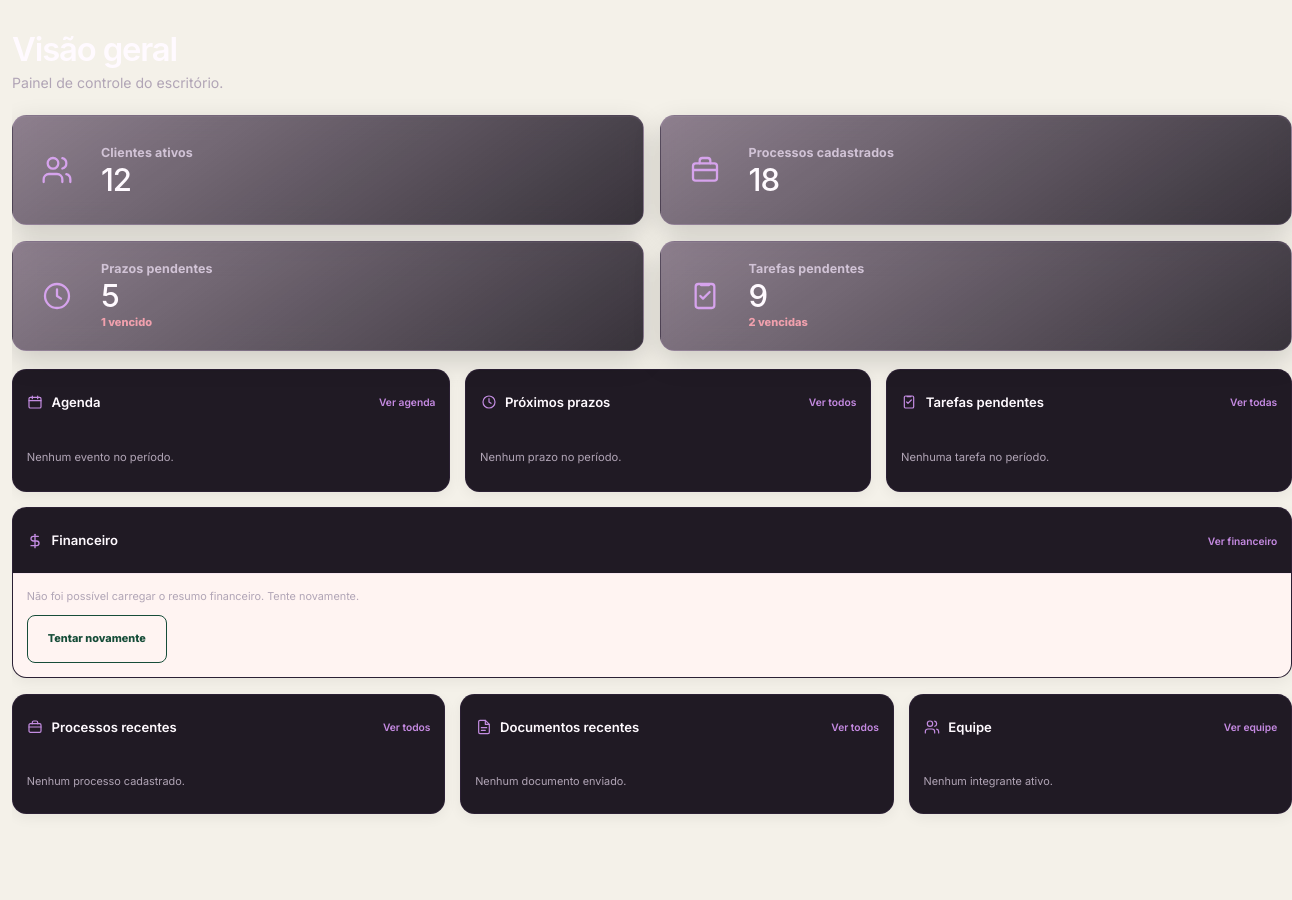
Test: DashboardPage › Finance summary › ErrorAndRetry_StayLocalAndDoNotReloadDashboardModules
The image size is (1292, 900).
Check: the message shows "Não foi possível carregar o resumo financeiro. Tente novamente.", box [27,589,359,603]
Check: the message does not show "private detail", box [13,573,1291,677]
Click the button "Tentar novamente". click: (97,639)
box: [27,615,167,663]
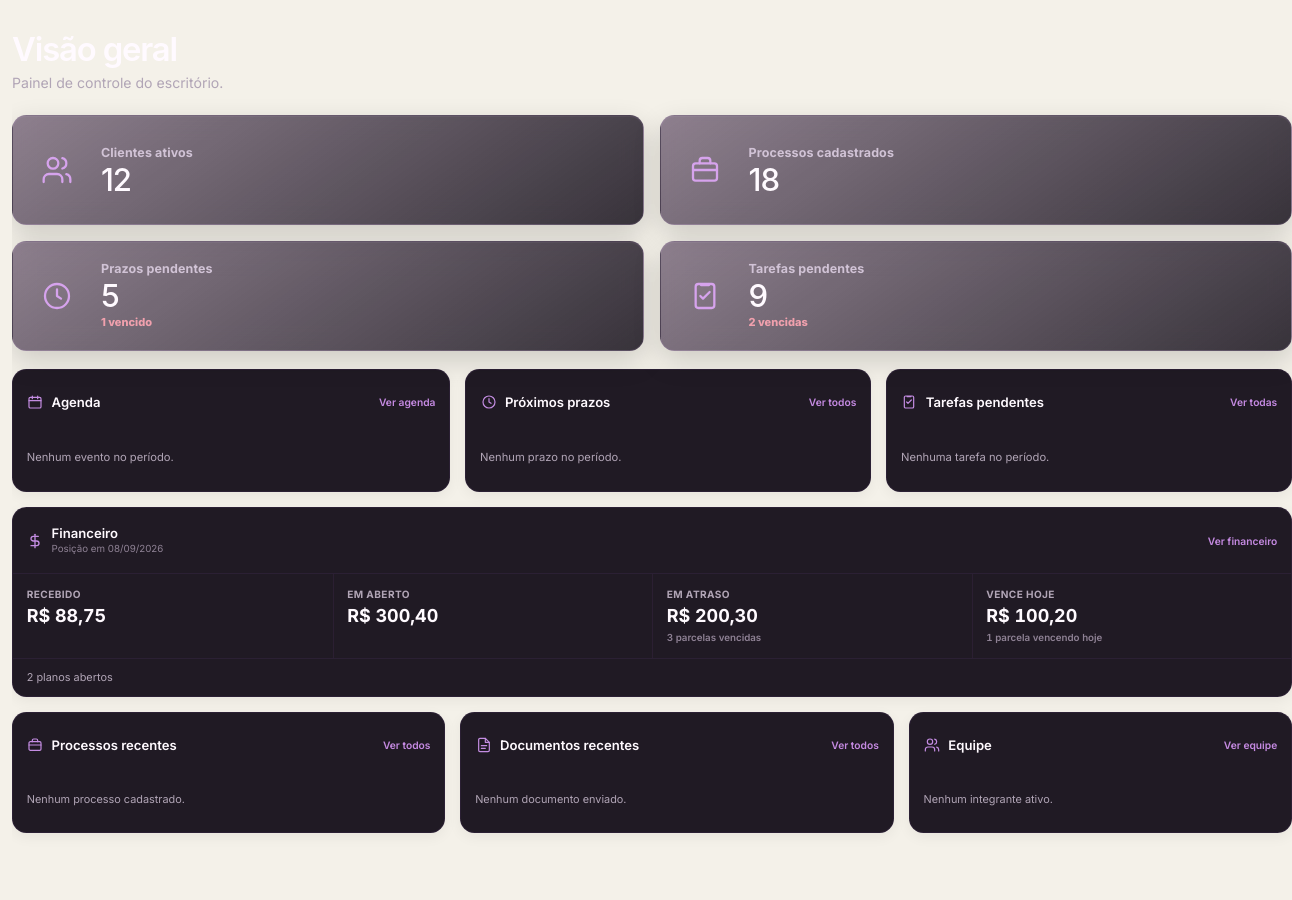
Check: the text "R$ 88,75" is shown, box [27,605,106,626]
